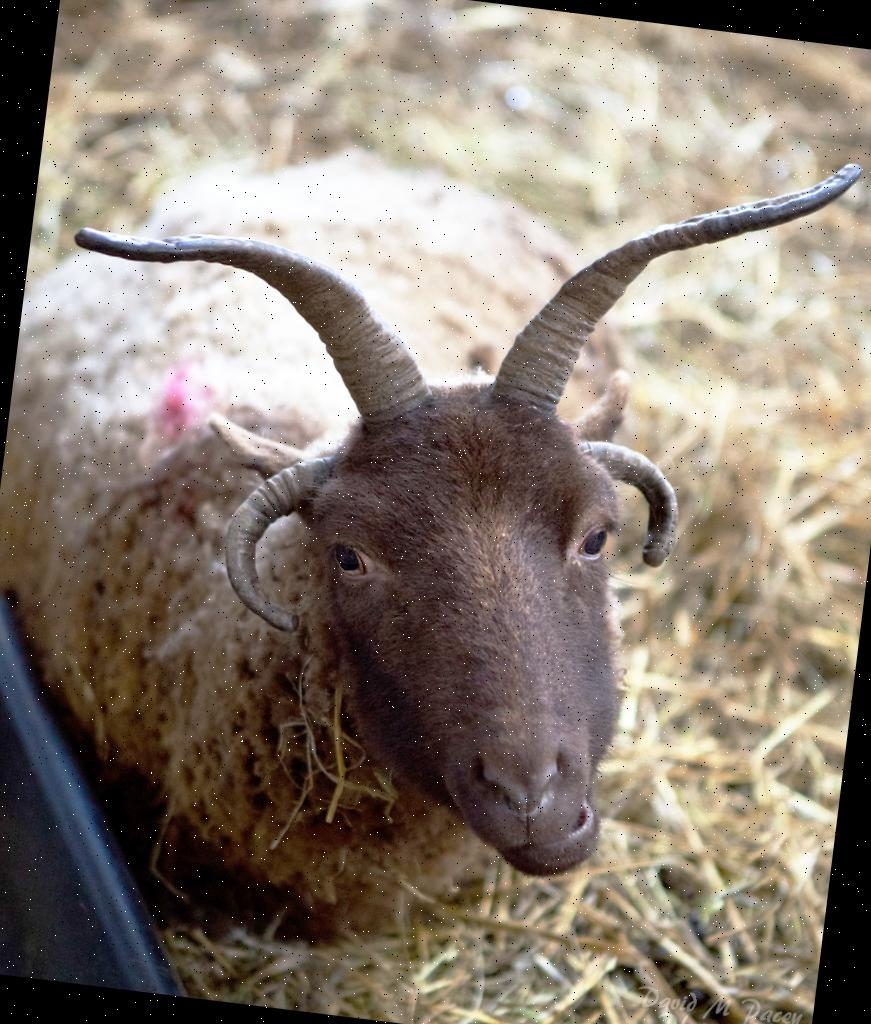Sheep: (0, 66, 861, 963)
